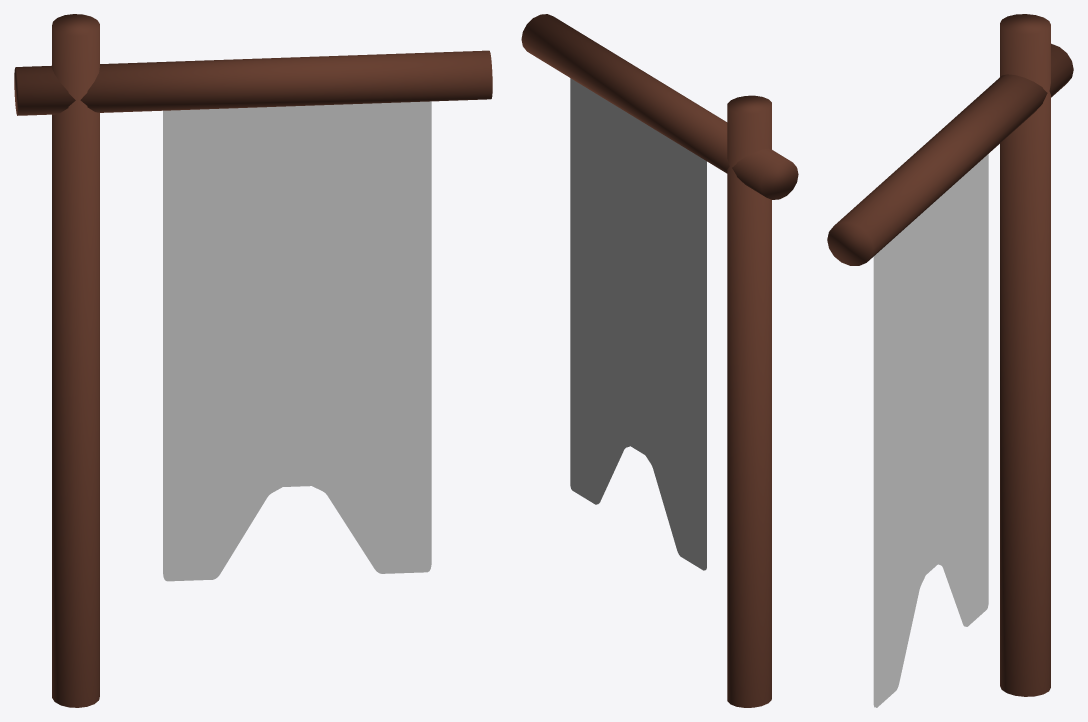
The model's file is flag.fbx.
3 renders of one model, left to right at view 1: azimuth 30°, elevation 25°; view 2: azimuth 150°, elevation 25°; view 3: azimuth 270°, elevation 25°, orthographic. The views are drawn at different scales.
Parts seen in each view (by area): view 1: Plane; view 2: Plane; view 3: Plane.
Part boxes in pixels (bbox=[...]): Plane: bbox=[14, 14, 492, 707]; Plane: bbox=[521, 14, 798, 707]; Plane: bbox=[827, 14, 1073, 707].
Bounding box in the file's own units: 0.9567 × 0.5289 × 1.57.
